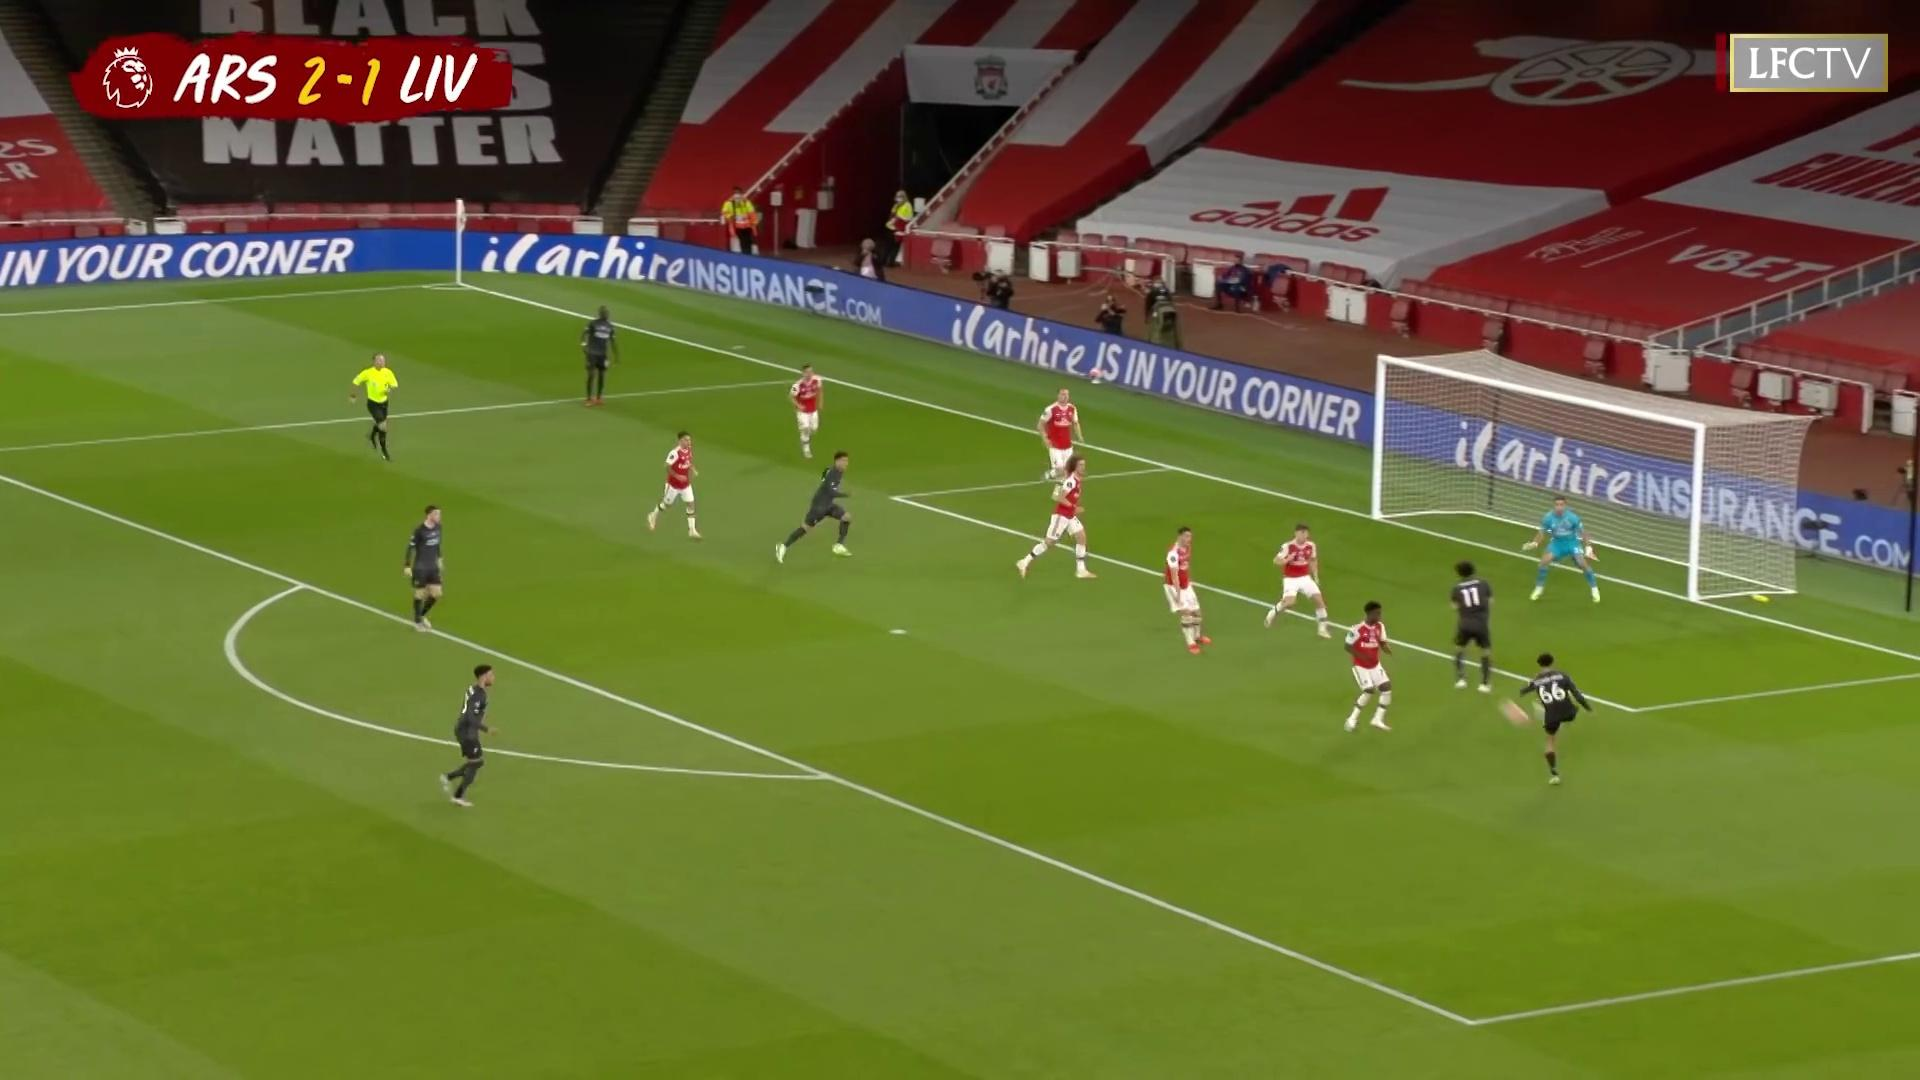ball: (1498, 699, 1531, 729)
